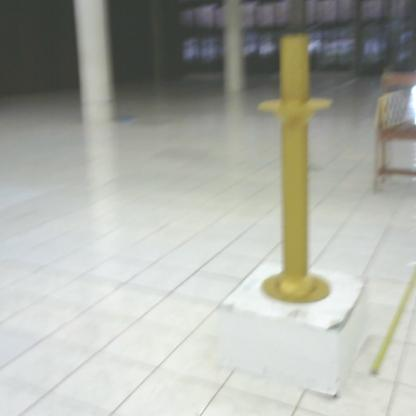pole: (249, 28, 342, 314)
